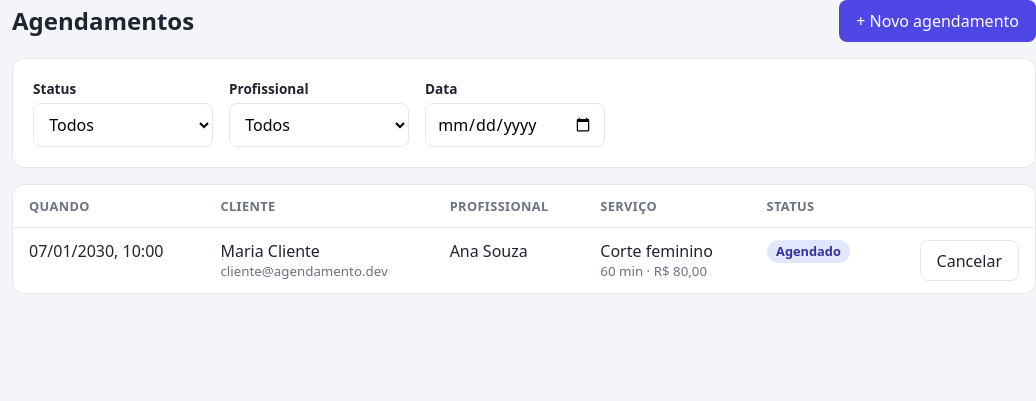
Scenario: AppointmentsPage › shows the API error when cancelling fails
The width and height of the screenshot is (1036, 401).
Step 1. Click the button "Cancelar" → (969, 261), box [920,240,1019,281]
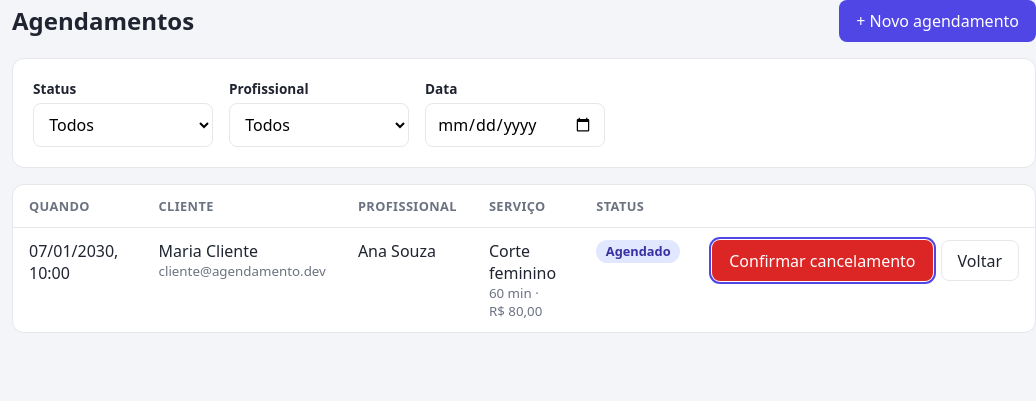
Step 2. Click the button "Confirmar cancelamento" → (822, 261), box [712,240,932,281]
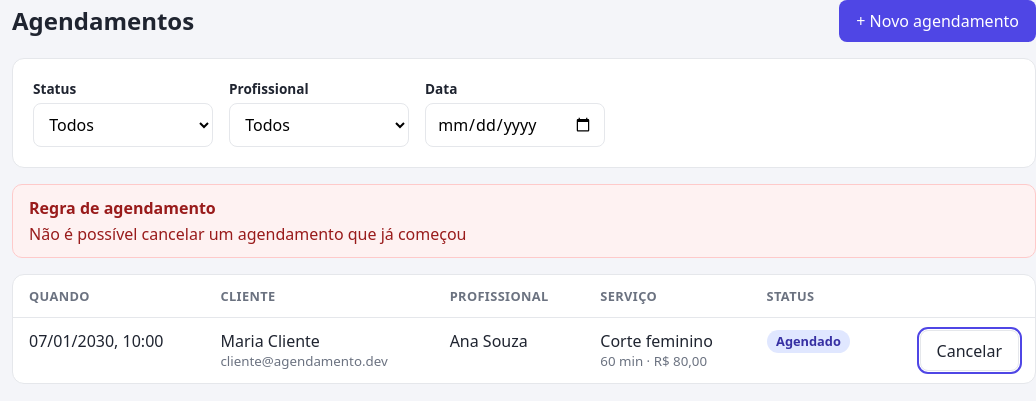
Now the text "Regra de agendamento" is shown, box [29,197,216,219]
Now the message shows "já começou", box [29,223,466,245]
